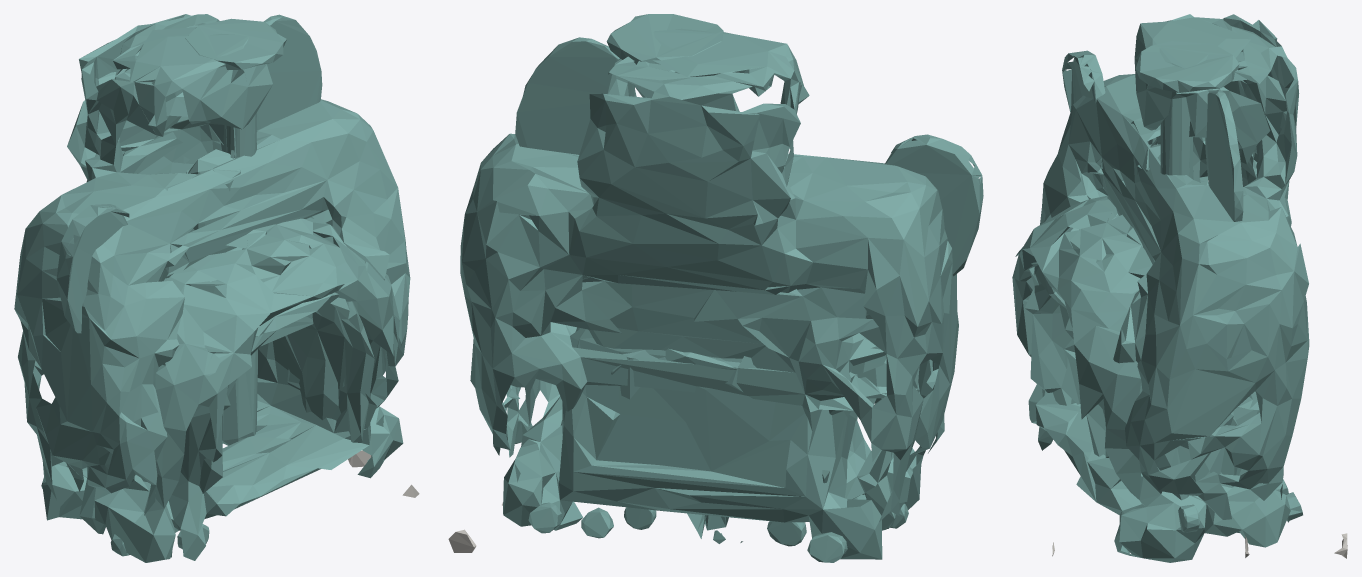
Rendered from ch03_spark.glb.
The picture shows the model from 3 angles, left to right: view 1: azimuth 30°, elevation 25°; view 2: azimuth 150°, elevation 25°; view 3: azimuth 270°, elevation 25°; orthographic projection. The views are drawn at different scales.
Visible parts, largest first — view 1: world; view 2: world; view 3: world.
Boxes of the visible parts, x1,y1,x2,y2 form: world: (14,14,419,562); world: (448,14,983,562); world: (1012,14,1347,562).
Size of the model in its own units: 1.87 by 2.11 by 1.37.
